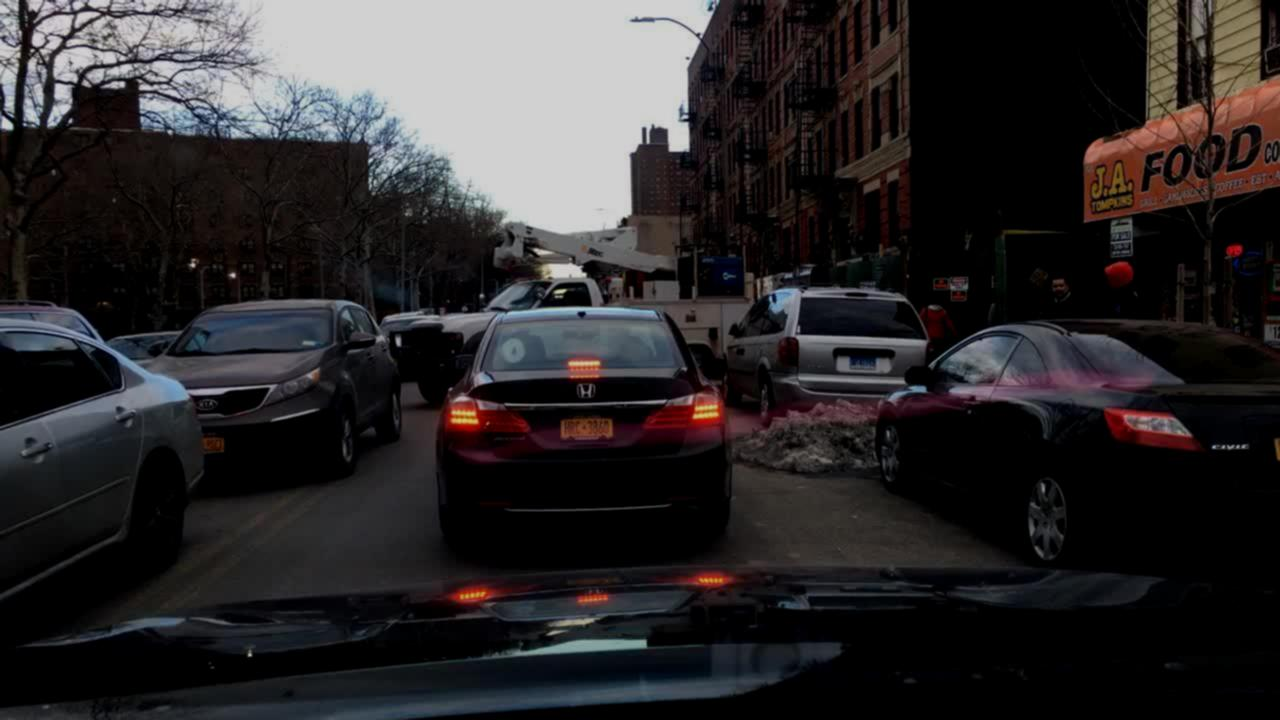Honda: (571, 377, 603, 407)
kia: (190, 396, 221, 414)
